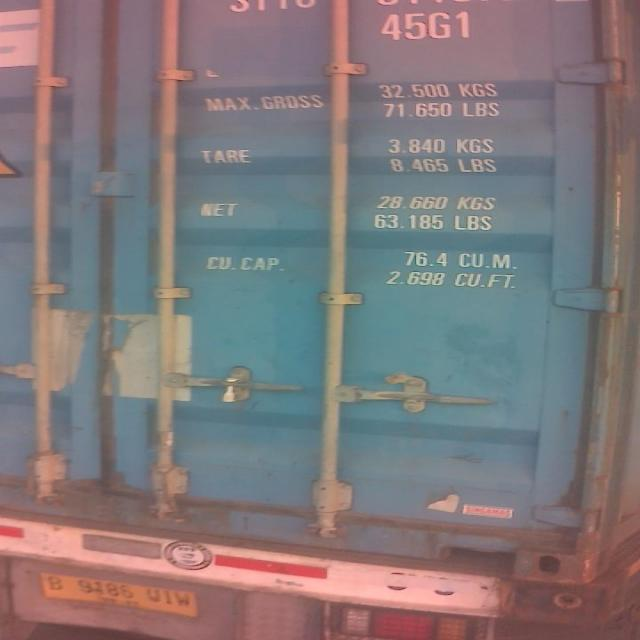seal: (212, 371, 250, 407)
